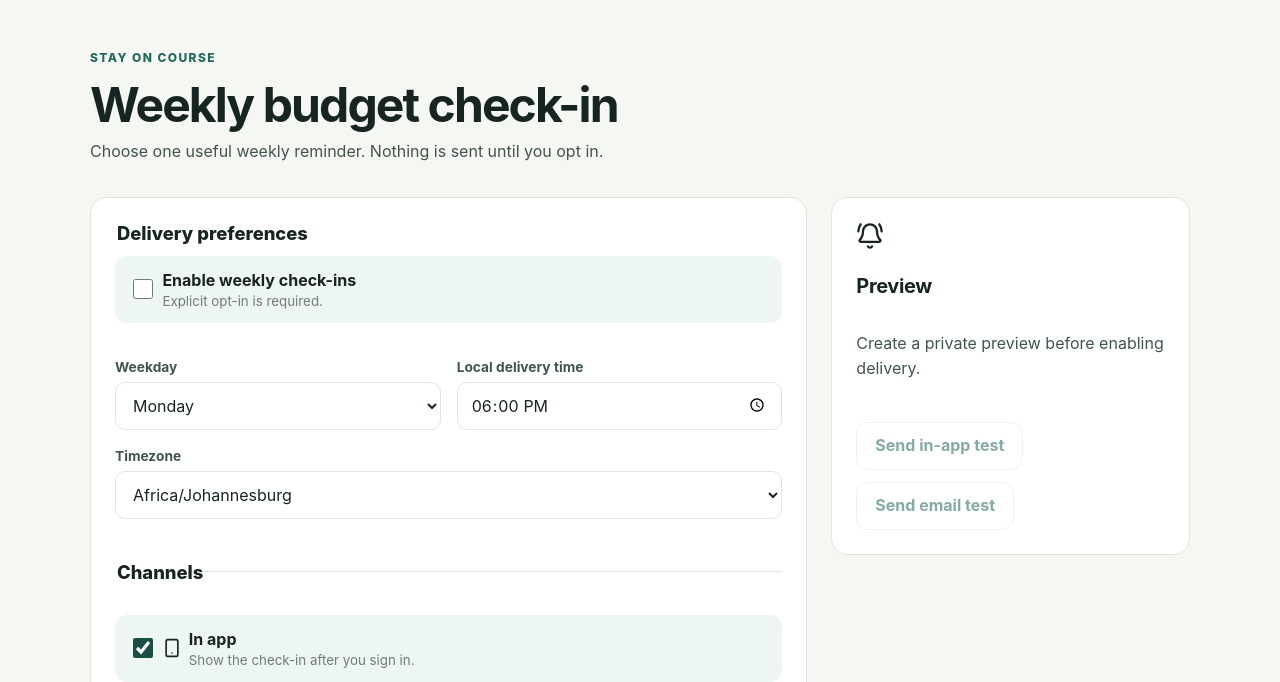
Test: WeeklyCheckInPage › saves an explicit opt-in and previews the deterministic action
Click the checkbox labelled "Enable weekly check-ins Explicit opt-in is required." at (143, 289), box [133, 279, 153, 299]
(page scrolled)
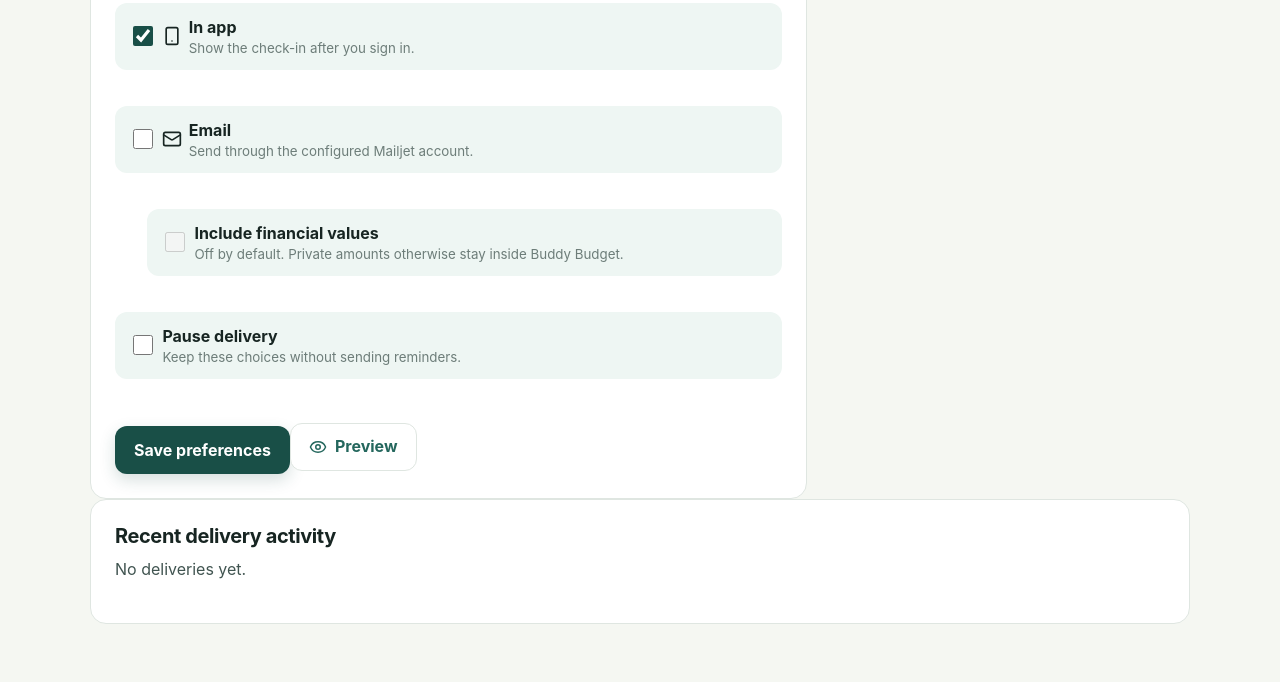
Click the button "Save preferences" at (202, 450), box [115, 426, 290, 474]
(page scrolled)
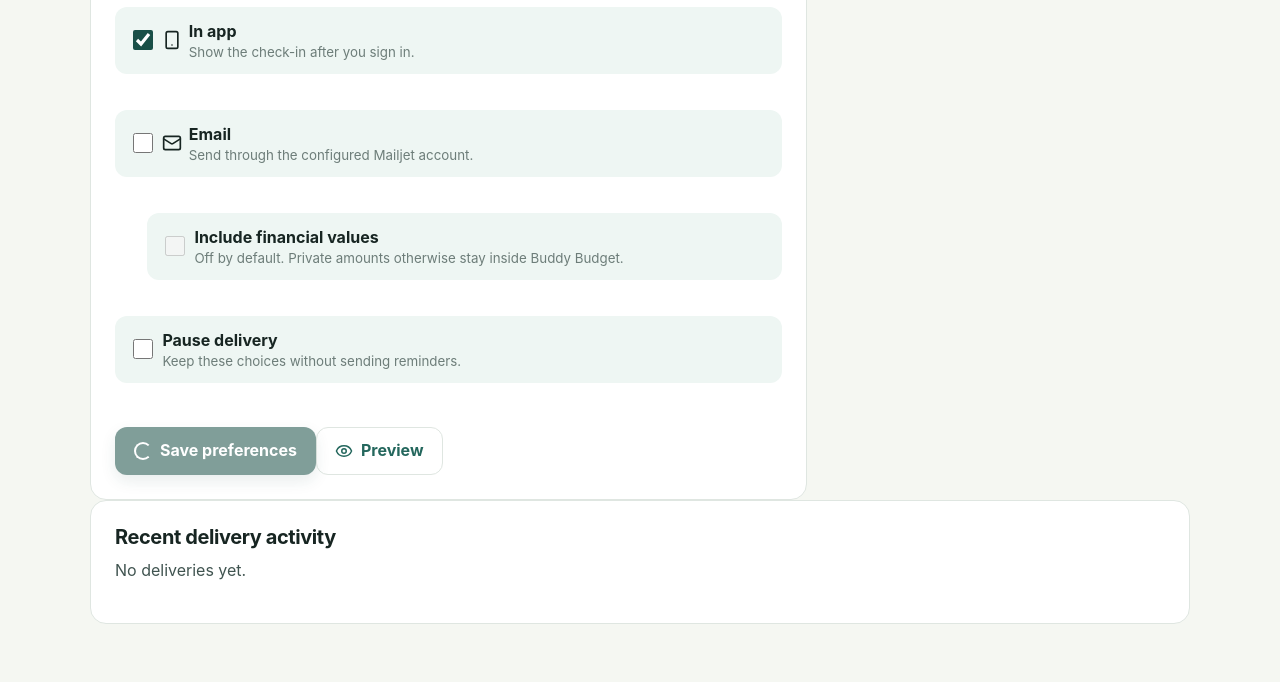
Click the button "Preview" at (379, 451), box [316, 427, 442, 475]
(page scrolled)
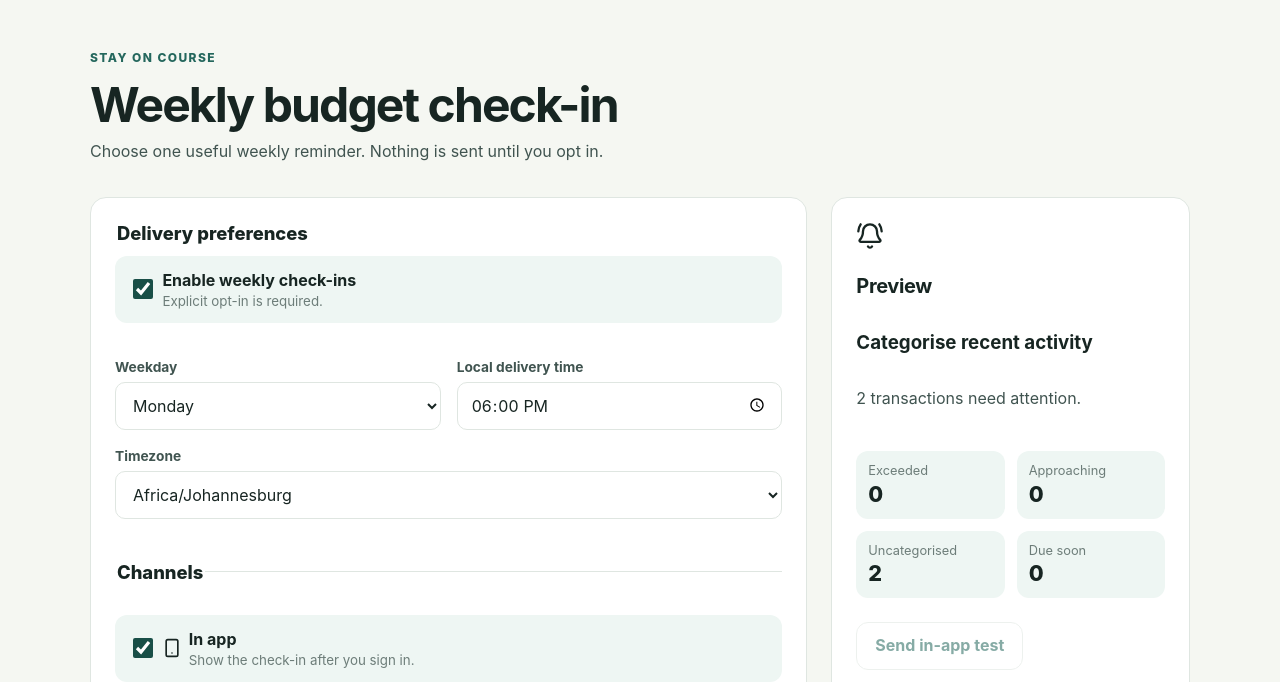
Now the heading "Categorise recent activity" is shown, box [856, 331, 1093, 354]
